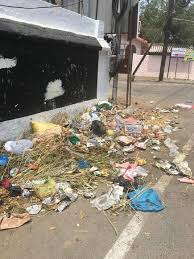garbage: (1, 131, 171, 214), (71, 104, 177, 195)
